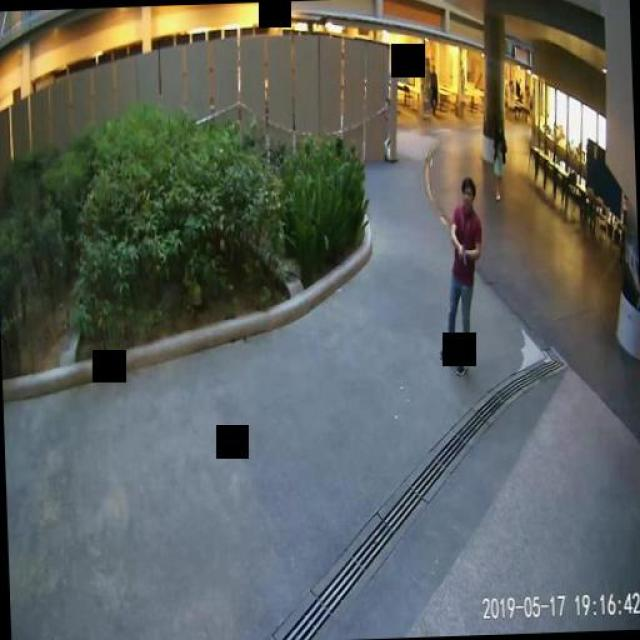gun: (457, 242, 465, 262)
